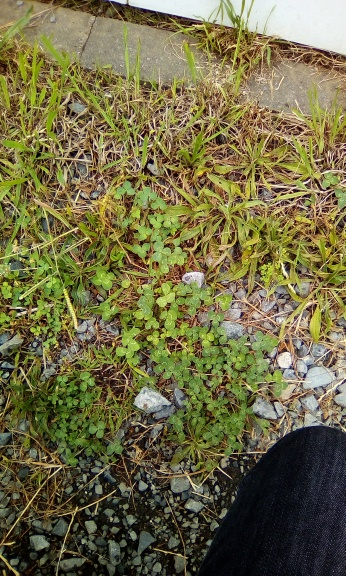4leaf: (92, 269, 114, 291)
